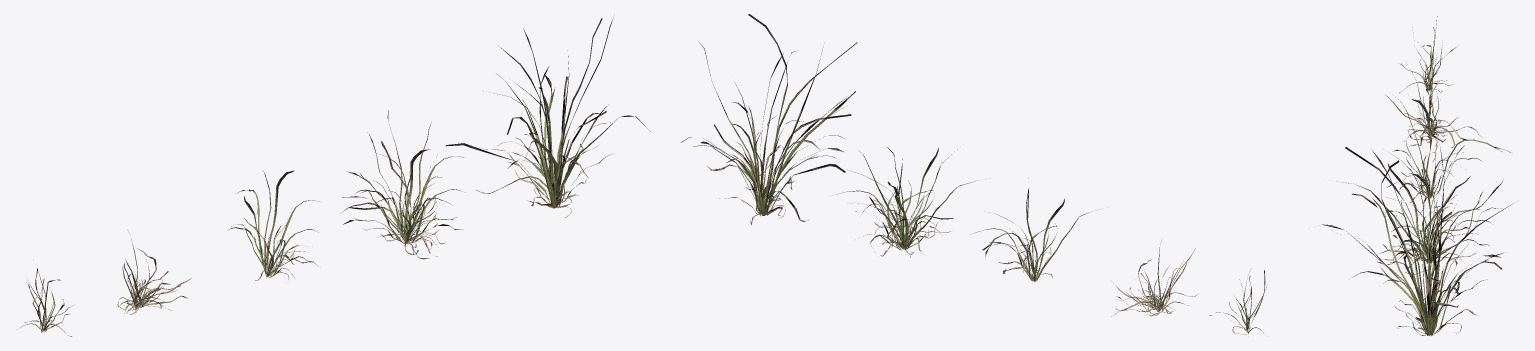
File: grass_medium_02.glb
The picture shows the model from 3 angles, left to right: view 1: azimuth 30°, elevation 25°; view 2: azimuth 150°, elevation 25°; view 3: azimuth 270°, elevation 25°; orthographic projection. The views are drawn at different scales.
Visible parts, largest first — view 1: grass_medium_02_e, grass_medium_02_d, grass_medium_02_c, grass_medium_02_b, grass_medium_02_a; view 2: grass_medium_02_e, grass_medium_02_d, grass_medium_02_c, grass_medium_02_b, grass_medium_02_a; view 3: grass_medium_02_e, grass_medium_02_d, grass_medium_02_c, grass_medium_02_b, grass_medium_02_a.
Boxes of the visible parts, x1,y1,x2,y2 form: grass_medium_02_e: [446, 17, 650, 217]; grass_medium_02_d: [340, 110, 463, 259]; grass_medium_02_c: [227, 170, 319, 280]; grass_medium_02_b: [117, 239, 191, 314]; grass_medium_02_a: [20, 268, 71, 336]; grass_medium_02_e: [681, 14, 857, 224]; grass_medium_02_d: [837, 147, 978, 257]; grass_medium_02_c: [975, 189, 1090, 281]; grass_medium_02_b: [1111, 242, 1197, 316]; grass_medium_02_a: [1209, 270, 1266, 334]; grass_medium_02_e: [1322, 147, 1513, 335]; grass_medium_02_d: [1336, 145, 1502, 274]; grass_medium_02_c: [1387, 96, 1510, 215]; grass_medium_02_b: [1384, 57, 1482, 150]; grass_medium_02_a: [1399, 16, 1457, 93].
Size of the model in its own units: 1.31 by 0.4053 by 0.4318.
1 material, 1 textured.
